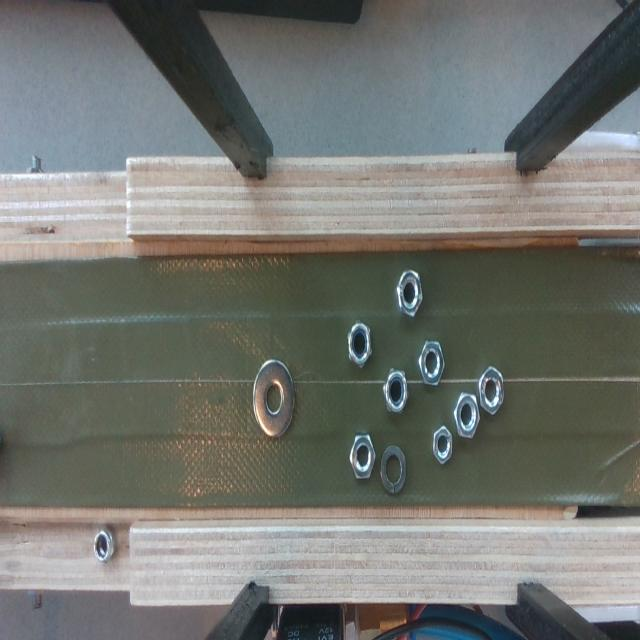Nut: (479, 366, 504, 414), (396, 271, 422, 316), (454, 393, 480, 438), (419, 340, 444, 384), (350, 435, 375, 478), (384, 369, 408, 413), (348, 321, 371, 366), (432, 426, 452, 463), (94, 528, 115, 561)
washer: (252, 359, 295, 438), (380, 445, 406, 494)
